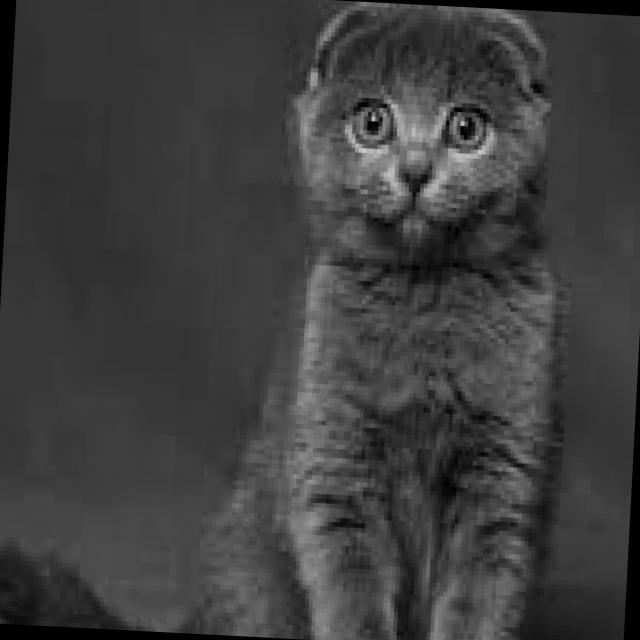scootish: (261, 0, 581, 314)
